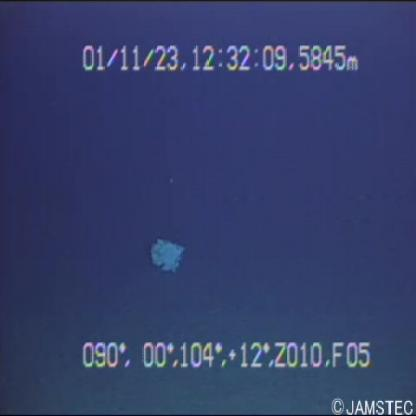Rác: (140, 228, 194, 282)
